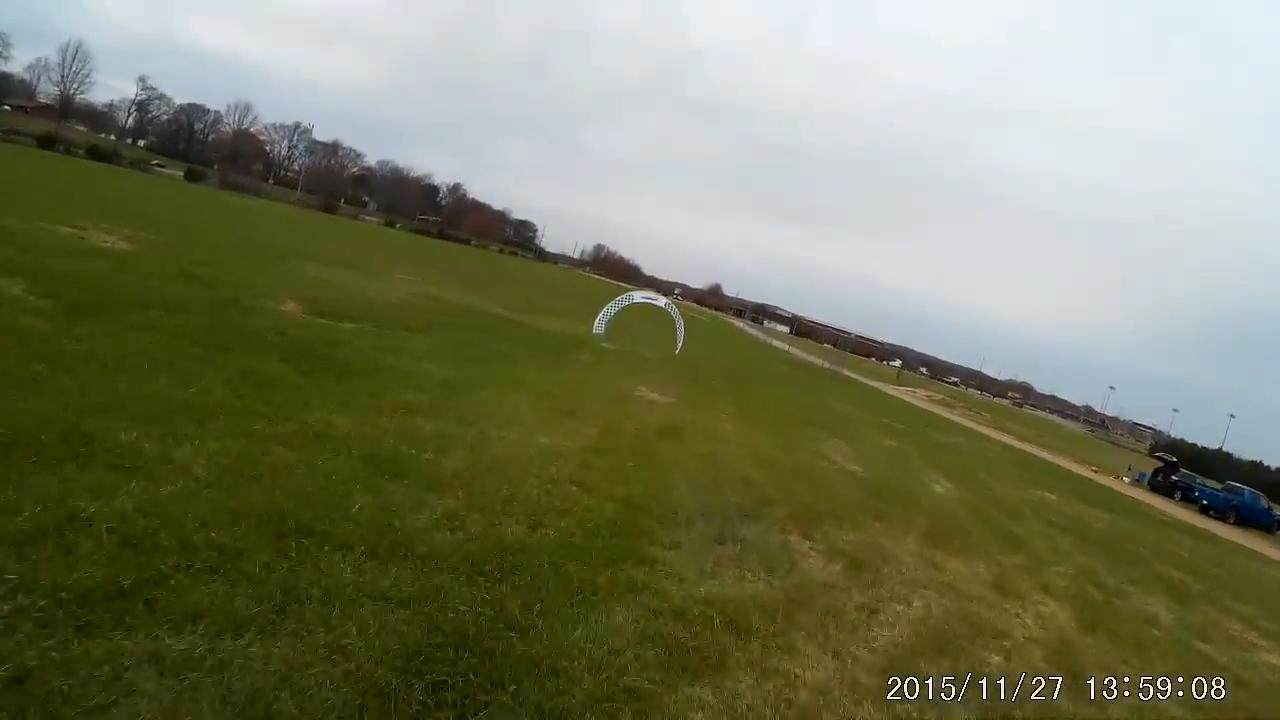gate: (591, 287, 687, 357)
